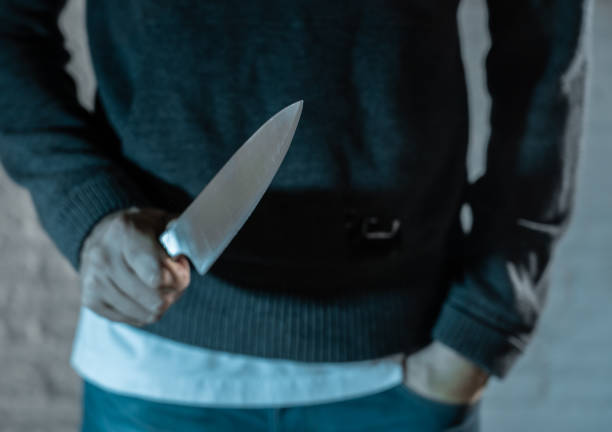knife: (157, 102, 307, 276)
